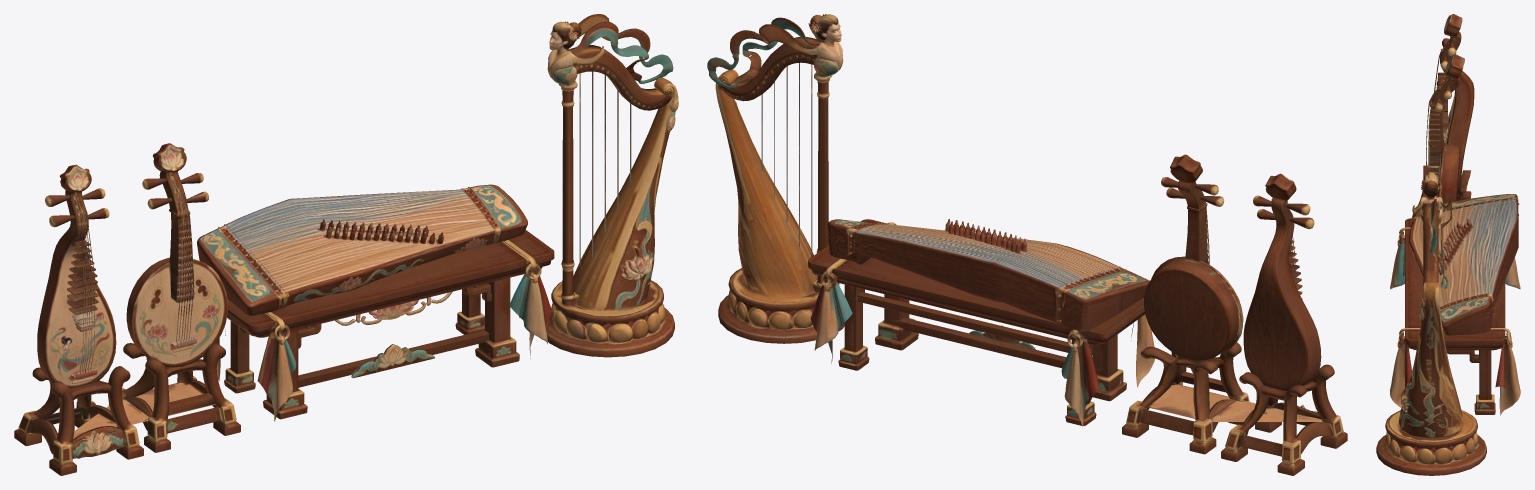
The model's file is strings-mobile.glb.
3 renders of one model, left to right at view 1: azimuth 30°, elevation 25°; view 2: azimuth 150°, elevation 25°; view 3: azimuth 270°, elevation 25°, orthographic. The views are drawn at different scales.
Visible parts, largest first — view 1: tripo_46a5e8f7_d069_4075_a9e2_105adcd97a95; view 2: tripo_46a5e8f7_d069_4075_a9e2_105adcd97a95; view 3: tripo_46a5e8f7_d069_4075_a9e2_105adcd97a95.
Part boxes in pixels (x1,y1,x2,y2): tripo_46a5e8f7_d069_4075_a9e2_105adcd97a95: (14, 14, 678, 475); tripo_46a5e8f7_d069_4075_a9e2_105adcd97a95: (707, 14, 1347, 475); tripo_46a5e8f7_d069_4075_a9e2_105adcd97a95: (1376, 14, 1520, 475).
Bounding box in the file's own units: 0.9995 × 0.48 × 0.2407.
1 material, 1 textured.
